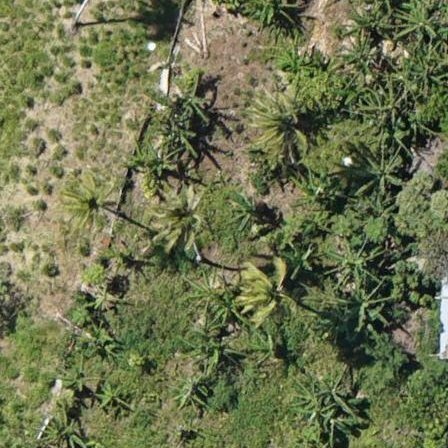palm_tree: (234, 255, 309, 335), (245, 85, 313, 158), (58, 171, 124, 238), (147, 190, 205, 249)
